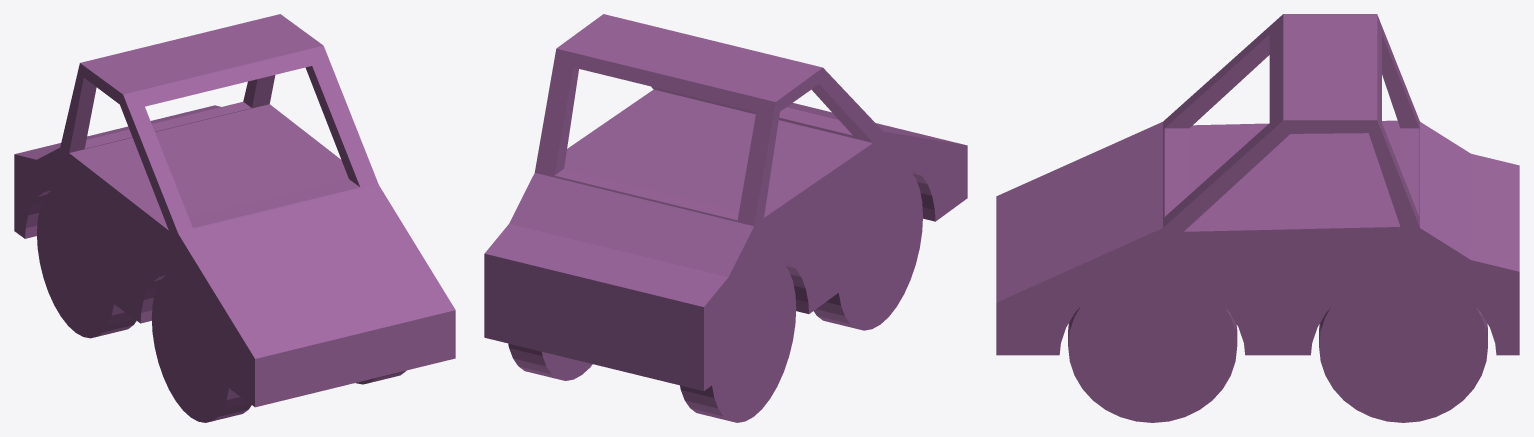
The model's file is car.gltf.
3 renders of one model, left to right at view 1: azimuth 30°, elevation 25°; view 2: azimuth 150°, elevation 25°; view 3: azimuth 270°, elevation 25°, orthographic. The views are drawn at different scales.
Parts seen in each view (by area): view 1: Car; view 2: Car; view 3: Car.
Boxes of the visible parts, x1,y1,x2,y2 form: Car: [14, 14, 455, 422]; Car: [484, 14, 967, 422]; Car: [996, 14, 1519, 422].
Size of what is drawn, in the model's own units: 2.98 by 3.98 by 6.19.
